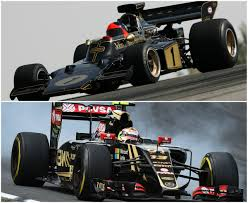f1_car: (8, 101, 246, 203), (1, 1, 242, 101)
